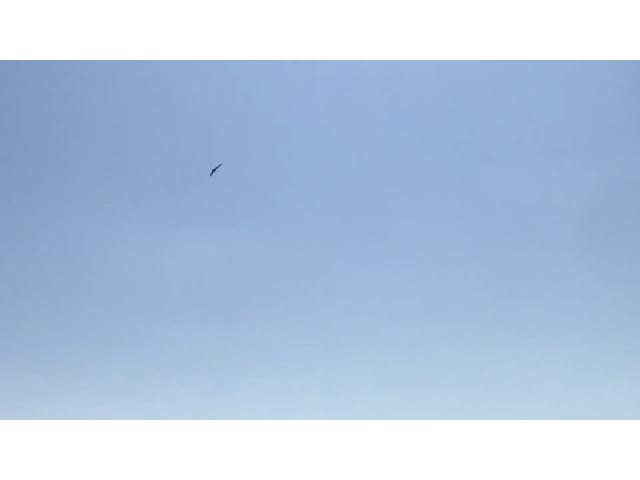Anti-Drone: (193, 153, 243, 185)
